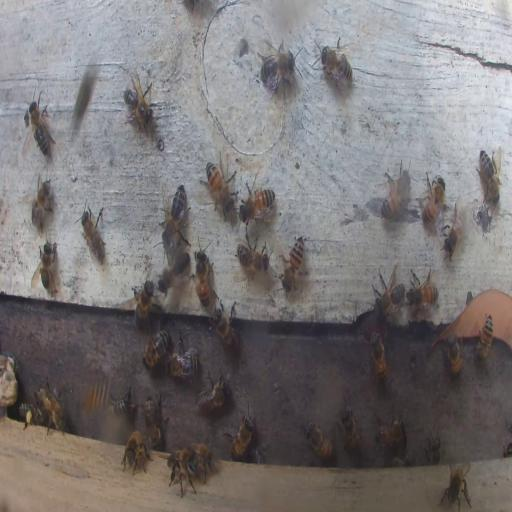nonpollenbee: (257, 38, 298, 95), (317, 35, 353, 92), (204, 154, 238, 214), (440, 458, 474, 511), (25, 93, 52, 158), (373, 266, 406, 319), (163, 184, 189, 247), (380, 164, 410, 218), (80, 201, 105, 265), (123, 79, 153, 131), (440, 203, 466, 260), (36, 382, 66, 431), (121, 428, 152, 475), (417, 174, 446, 224), (477, 148, 502, 206), (240, 185, 278, 223), (406, 268, 438, 313), (33, 238, 58, 295), (168, 449, 198, 496), (159, 250, 191, 294), (236, 238, 269, 279), (212, 302, 239, 352), (282, 234, 305, 291), (225, 415, 254, 460), (305, 421, 334, 463), (196, 373, 227, 412), (31, 175, 54, 227), (375, 412, 406, 450), (195, 245, 213, 309), (142, 329, 170, 369), (338, 408, 362, 454), (144, 394, 164, 446), (369, 330, 387, 386), (166, 348, 198, 377), (86, 374, 110, 412), (133, 282, 153, 326), (475, 315, 493, 361), (444, 334, 462, 377), (186, 444, 213, 471), (109, 397, 133, 423), (426, 428, 442, 462), (390, 448, 416, 466), (250, 446, 265, 464)
pollenbee: (19, 405, 39, 425)
